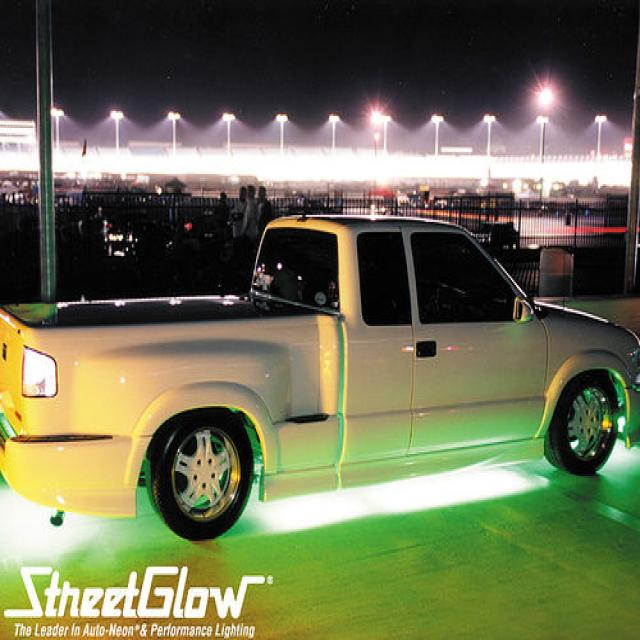car: (1, 215, 640, 546)
